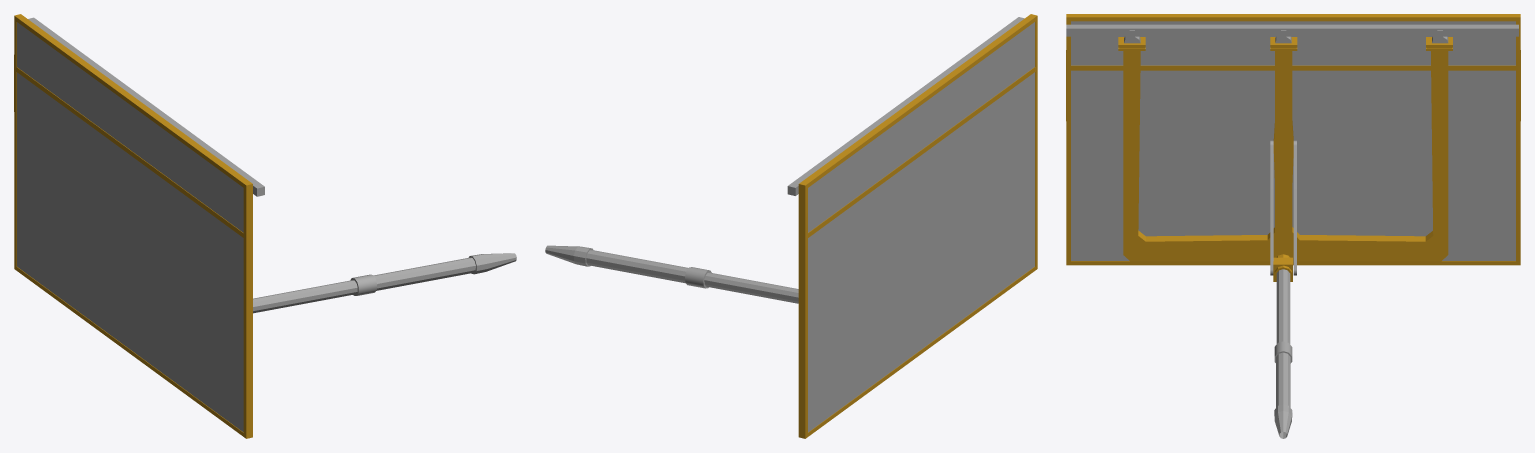
The model's file is S_Fence.fbx.
The picture shows the model from 3 angles, left to right: view 1: azimuth 30°, elevation 25°; view 2: azimuth 150°, elevation 25°; view 3: azimuth 270°, elevation 25°; orthographic projection. The views are drawn at different scales.
Parts seen in each view (by area): view 1: Barrière; view 2: Barrière; view 3: Barrière.
Part boxes in pixels (x1=…): Barrière: x1=14, y1=14, x2=516, y2=438; Barrière: x1=545, y1=14, x2=1037, y2=438; Barrière: x1=1066, y1=14, x2=1520, y2=438.
Bounding box in the file's own units: 189 × 121 × 201.
